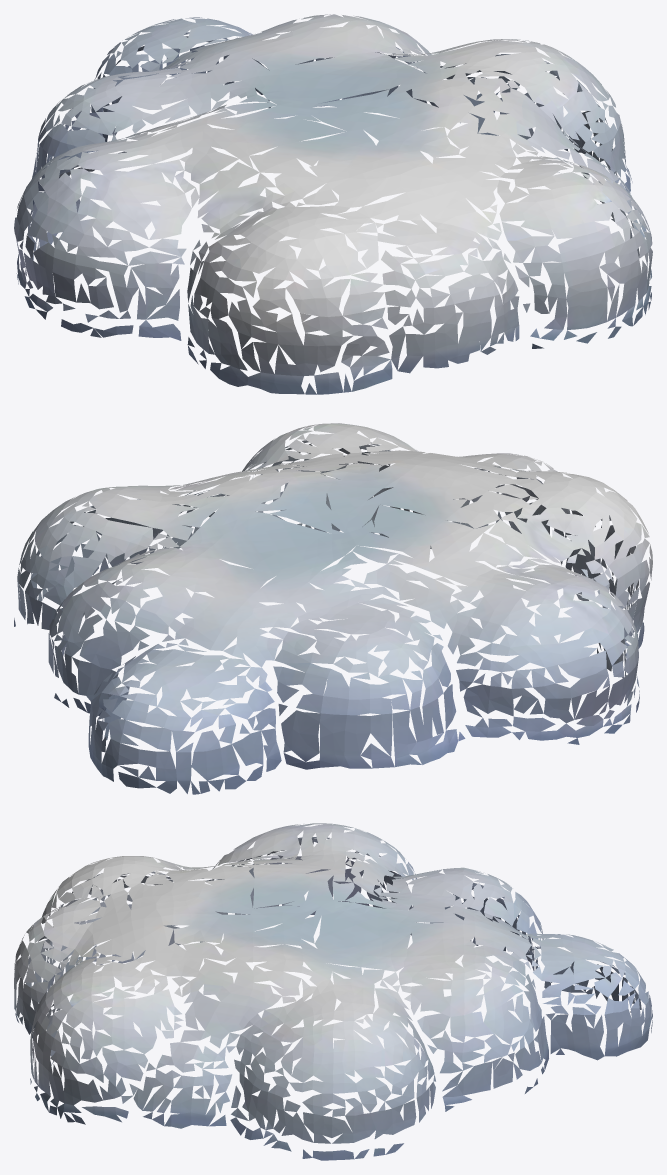
File: cloud1.glb
3 views of the same model, one above another, from view 1: azimuth 30°, elevation 25°; view 2: azimuth 150°, elevation 25°; view 3: azimuth 270°, elevation 25° (orthographic). The views are drawn at different scales.
Parts seen in each view (by area): view 1: world; view 2: world; view 3: world.
Boxes of the visible parts, left/top/right/bottom form: world: left=14, top=14, right=652, bottom=394; world: left=14, top=423, right=652, bottom=794; world: left=14, top=823, right=652, bottom=1160.
Bounding box in the file's own units: 0.935 × 0.2319 × 0.9995.
Materials: 1 (1 with a texture image).
